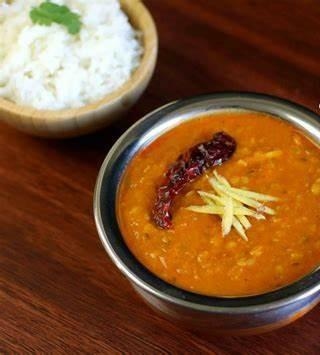Dal: (116, 112, 320, 297)
WhiteRice: (0, 0, 143, 108)
